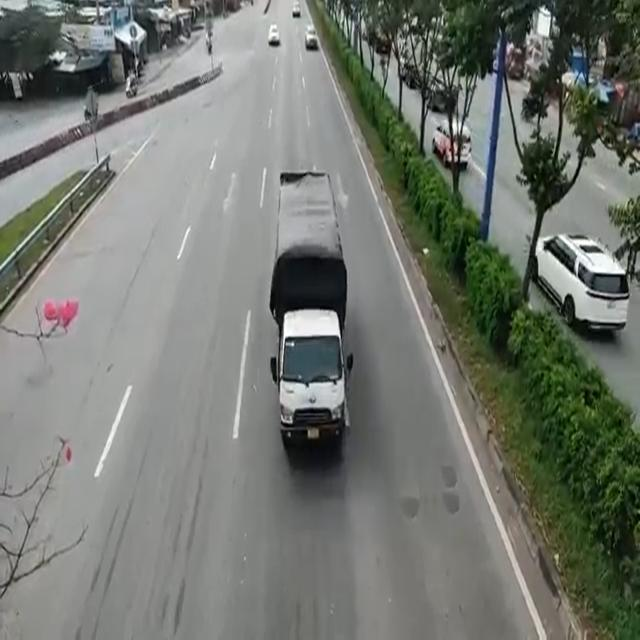car: (527, 228, 628, 336), (304, 22, 315, 49), (272, 20, 278, 46)
truck: (273, 168, 352, 462)
